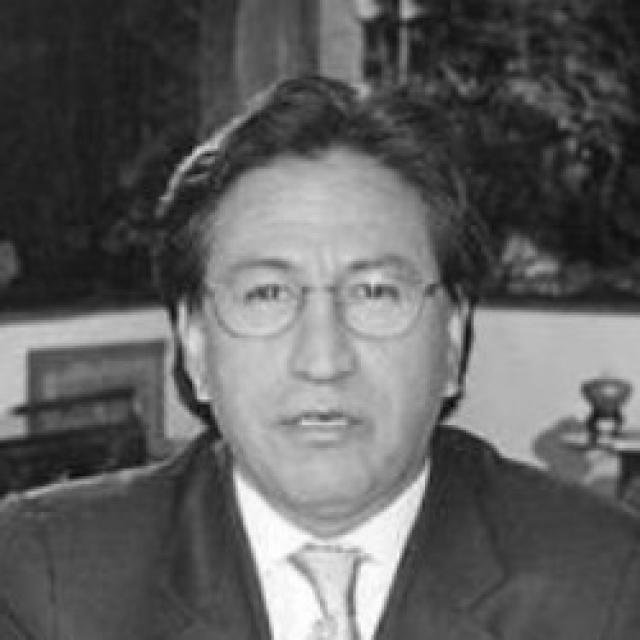real: (204, 158, 448, 510), (225, 258, 413, 335)
